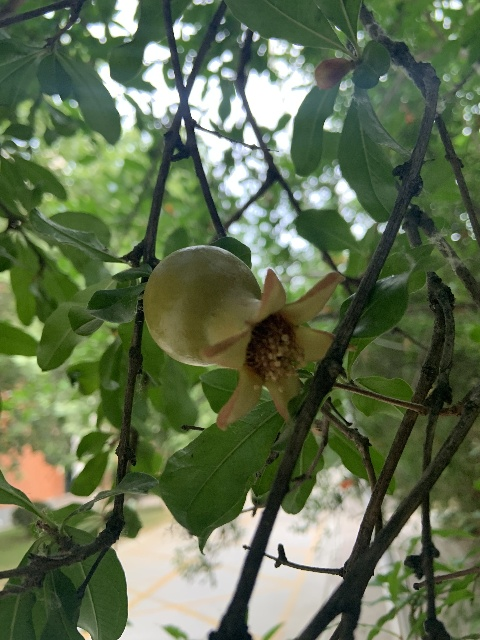bud: (313, 56, 352, 90)
mid-growth: (142, 244, 343, 431)
